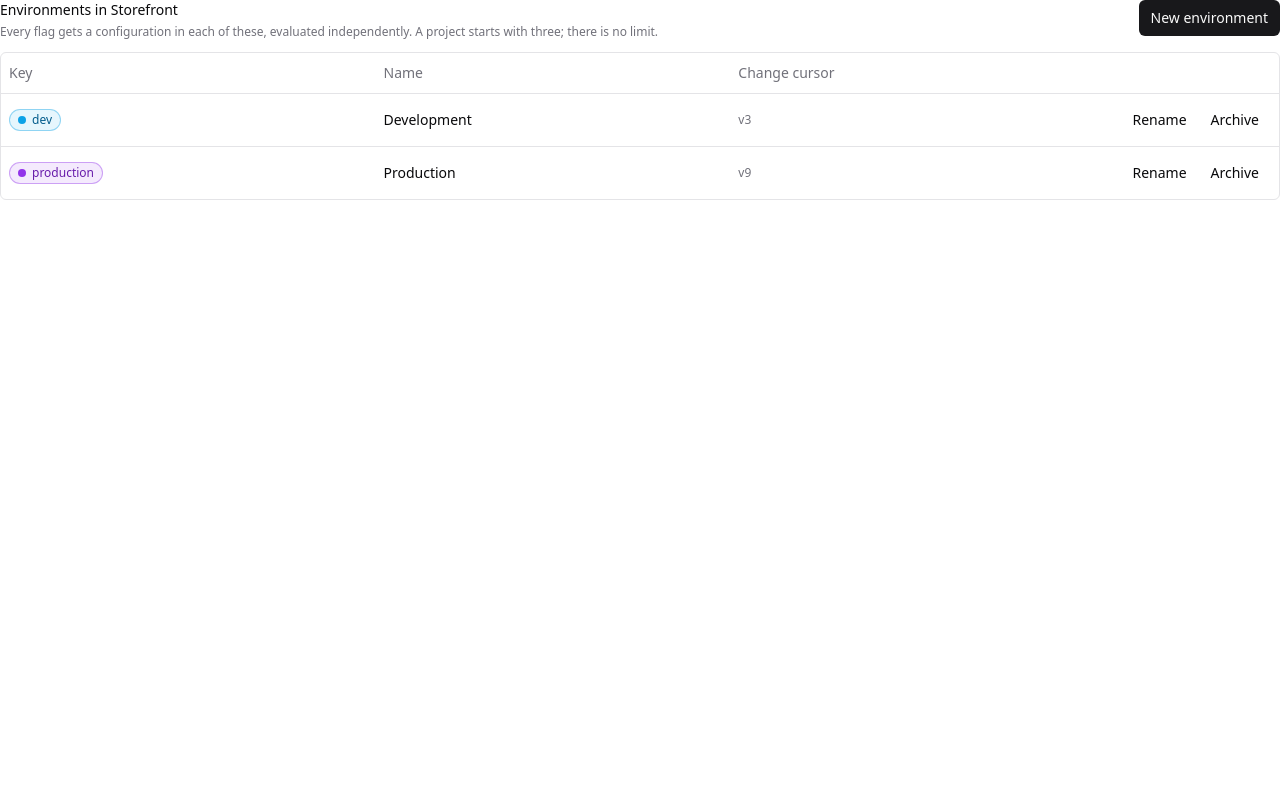
Test case: EnvironmentsTab › refuses a key the server would reject, before sending it
This screenshot has width=1280, height=800.
Click the button with test id "create-environment" at (1209, 18), box [1138,0,1279,36]
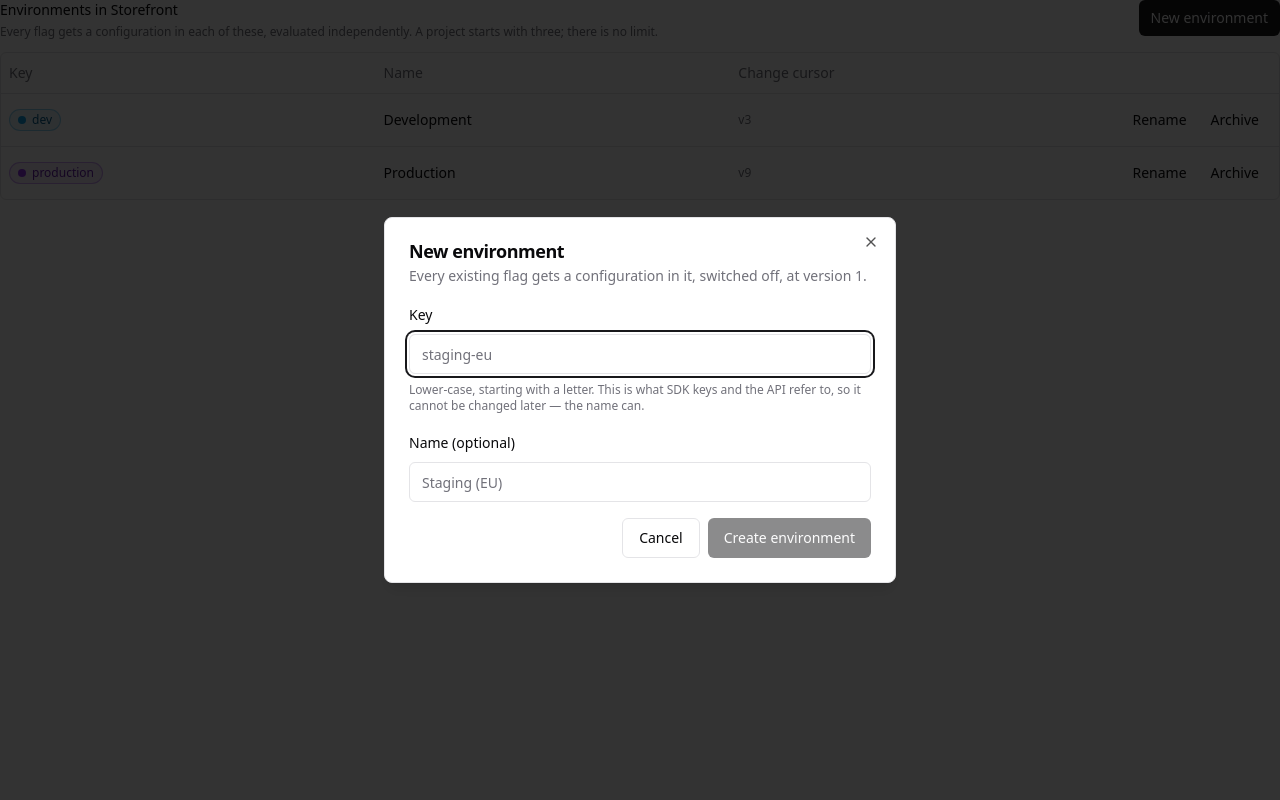
Type "Staging EU" into the field with test id "env-key" at (640, 354), box [409,334,871,374]
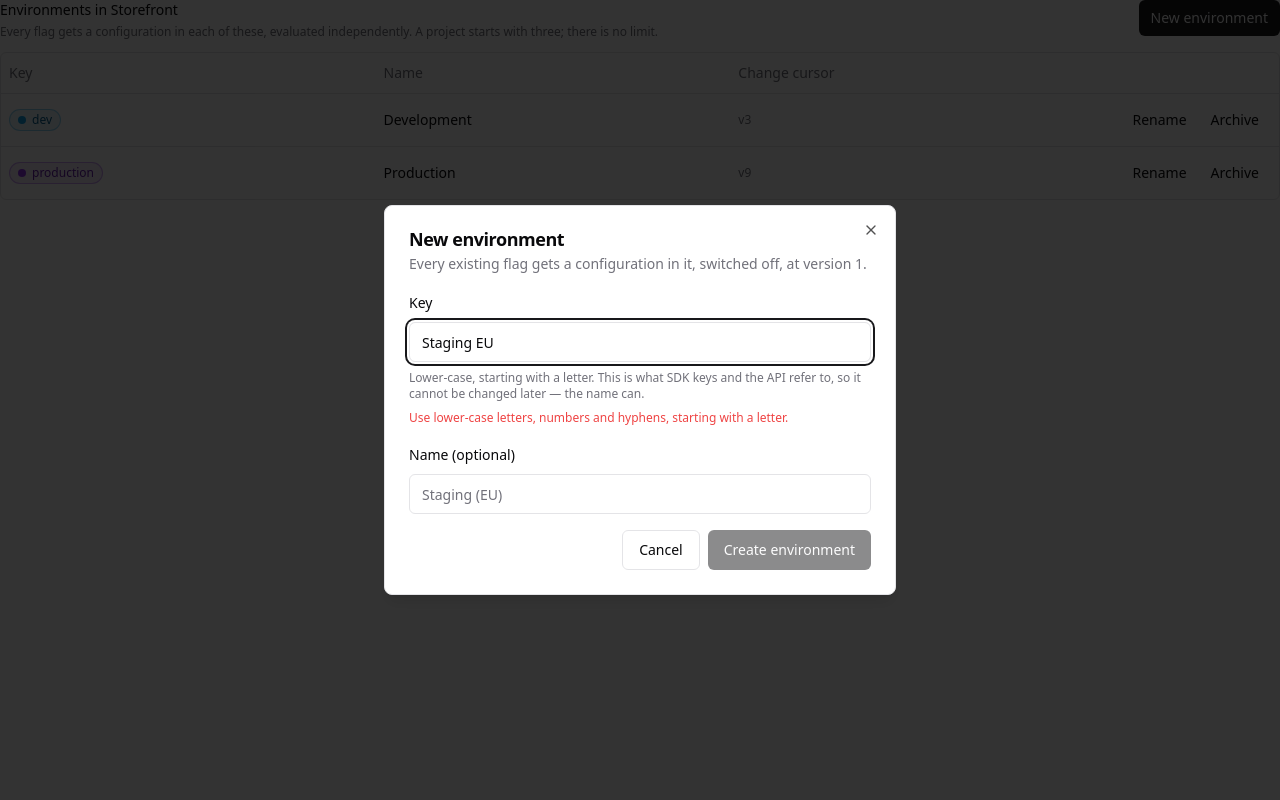
Now the button with test id "confirm-create-environment" is disabled, box [708,530,871,570]
Now the text with test id "env-key-invalid" is shown, box [409,409,788,426]
